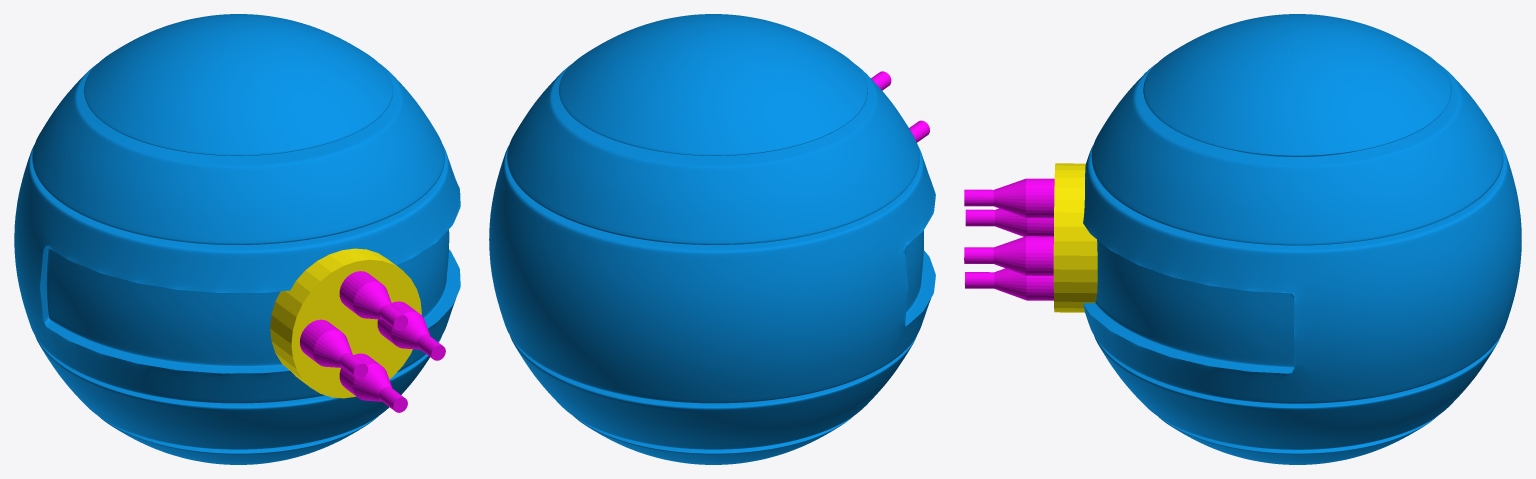
File: BlueSphereTurret.glb
3 renders of one model, left to right at view 1: azimuth 30°, elevation 25°; view 2: azimuth 150°, elevation 25°; view 3: azimuth 270°, elevation 25°, orthographic.
Parts seen in each view (by area): view 1: Sphere, Cylinder; view 2: Sphere, Cylinder; view 3: Sphere, Cylinder.
Boxes of the visible parts, left/top/right/bottom form: Sphere: left=14, top=14, right=460, bottom=464; Cylinder: left=270, top=248, right=445, bottom=412; Sphere: left=489, top=14, right=935, bottom=464; Cylinder: left=871, top=71, right=929, bottom=142; Sphere: left=1083, top=14, right=1521, bottom=464; Cylinder: left=964, top=163, right=1097, bottom=312.
Size of the model in its own units: 2 by 2 by 2.45.
